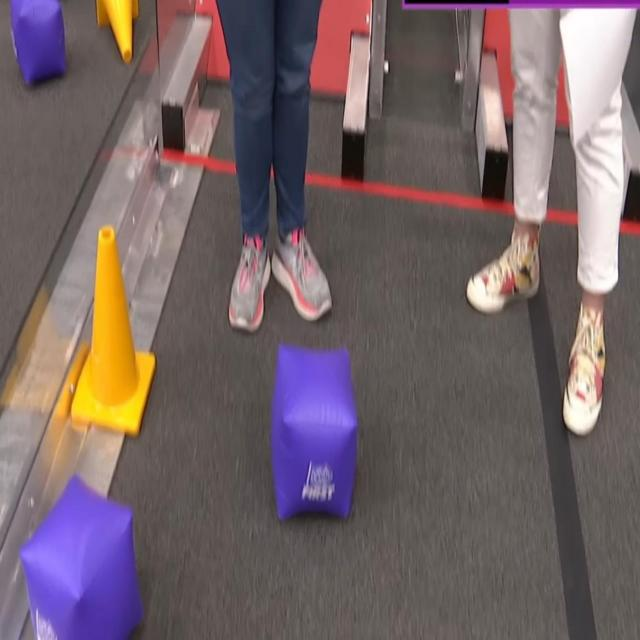frc_cone: (70, 224, 156, 428), (94, 0, 142, 64)
frc_cube: (20, 473, 145, 640), (276, 351, 359, 523), (12, 0, 67, 87)
